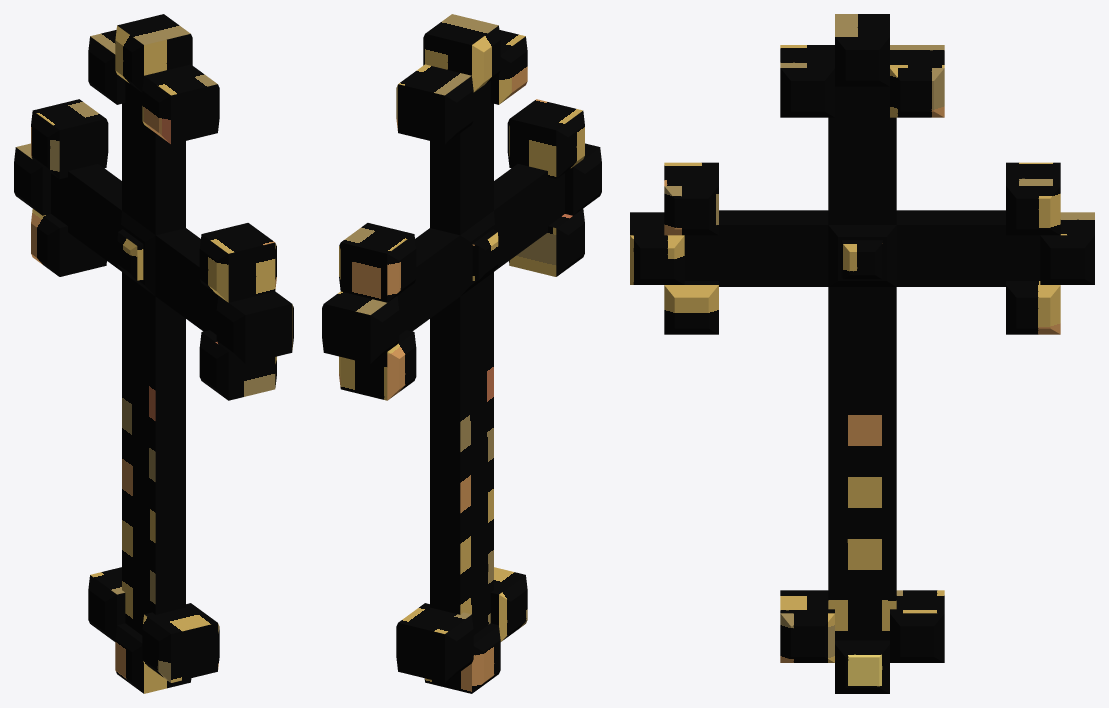
The model's file is Crucufix.fbx.
3 views of the same model, side by side, from view 1: azimuth 30°, elevation 25°; view 2: azimuth 150°, elevation 25°; view 3: azimuth 270°, elevation 25° (orthographic).
Visible parts, largest first — view 1: Crucifix; view 2: Crucifix; view 3: Crucifix.
Boxes of the visible parts, left/top/right/bottom form: Crucifix: left=14, top=14, right=293, bottom=693; Crucifix: left=322, top=14, right=601, bottom=693; Crucifix: left=630, top=14, right=1094, bottom=693.
Bounding box in the file's own units: 2.32 × 23.84 × 15.29.
